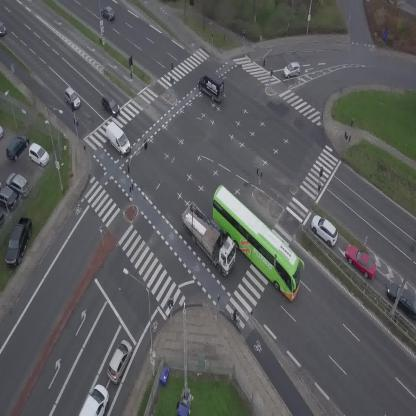bicycle: (228, 308, 241, 325)
bus: (195, 183, 317, 303)
car: (340, 240, 382, 284), (102, 337, 137, 385), (306, 211, 344, 248), (79, 381, 115, 416), (97, 93, 124, 119), (59, 85, 83, 111), (98, 3, 118, 23), (281, 61, 302, 79), (0, 19, 6, 36)
lorry: (173, 197, 247, 278), (193, 67, 232, 105), (100, 120, 136, 157)
